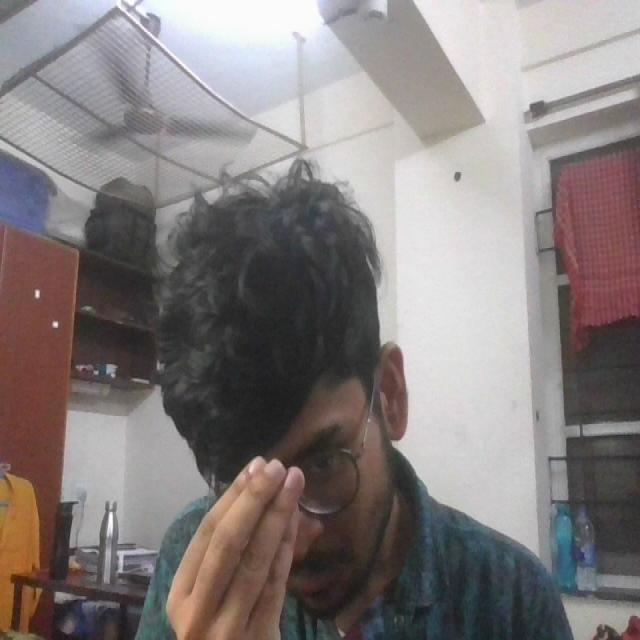Please: (152, 409, 308, 640)
